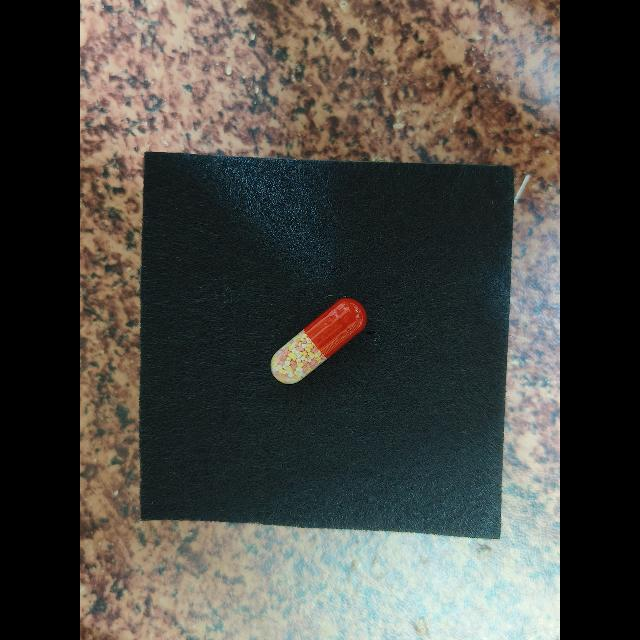Intact Capsule: (270, 298, 367, 384)
